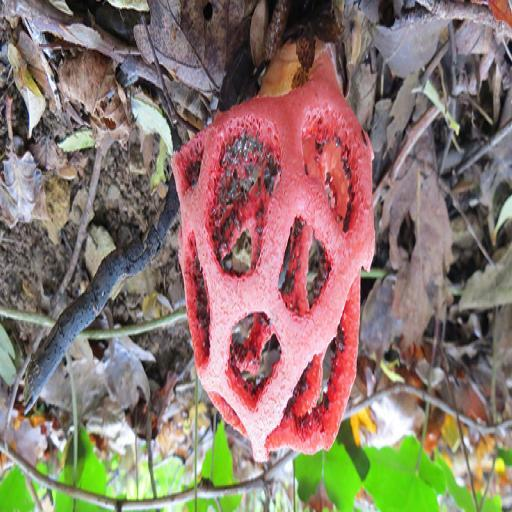mushroom: (173, 74, 375, 456)
